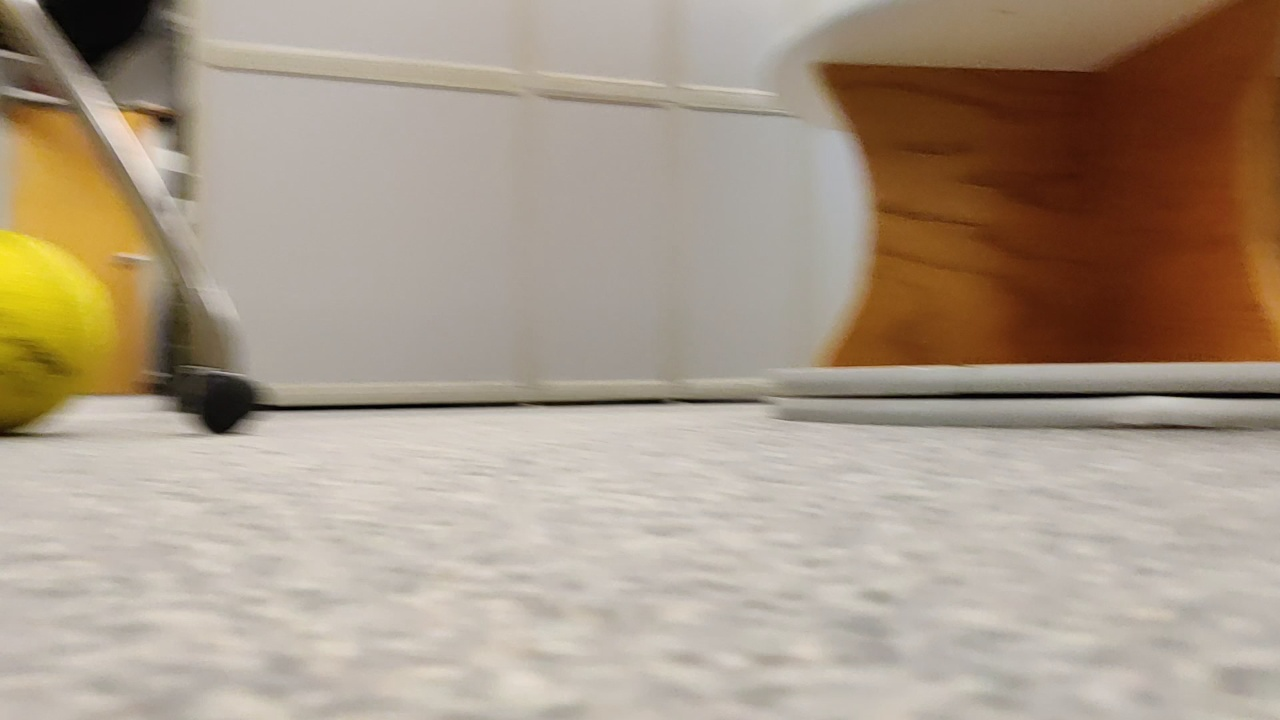Ball: (1, 225, 119, 421)
